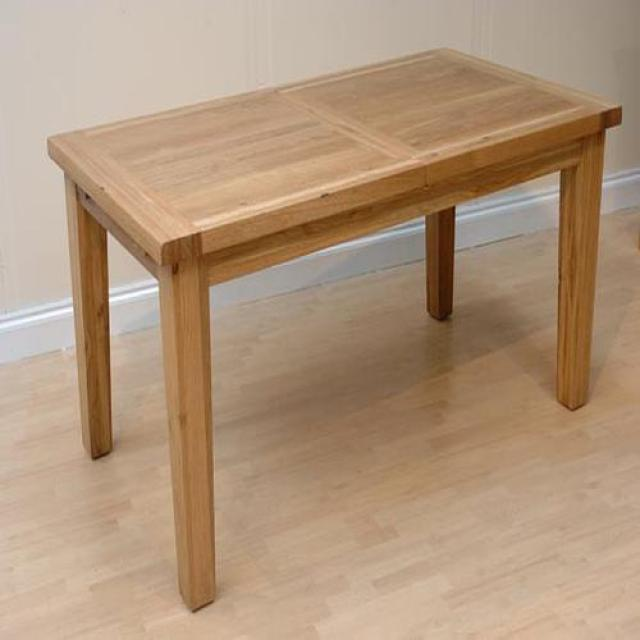table: (46, 49, 625, 616)
